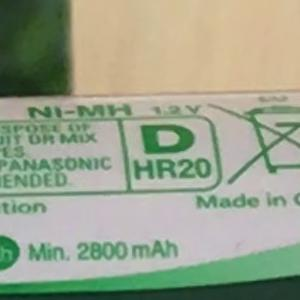HR20: (126, 149, 218, 188)
